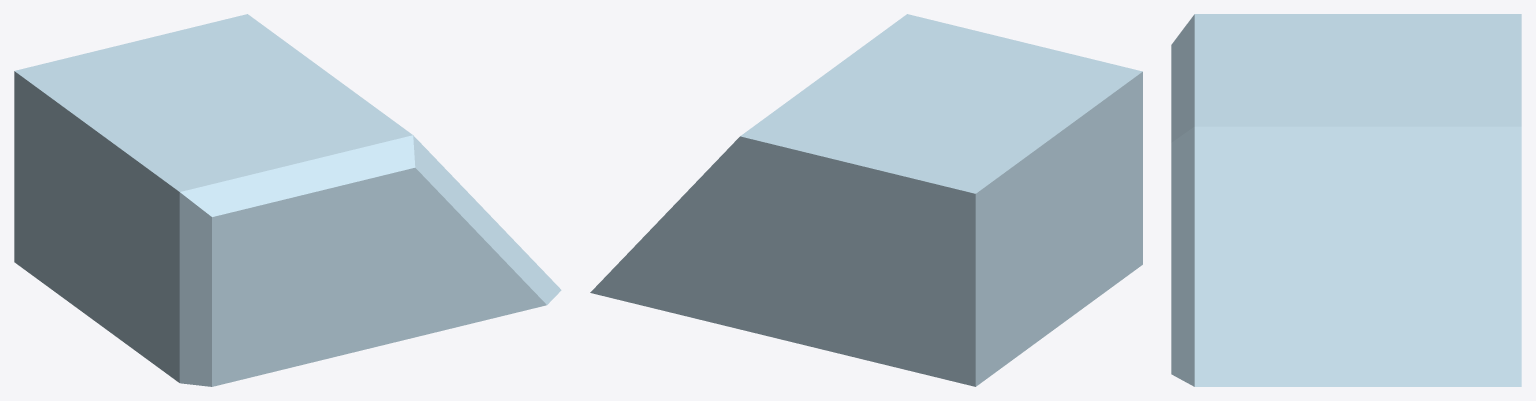
File: STAM - M7-1.gltf
3 views of the same model, side by side, from view 1: azimuth 30°, elevation 25°; view 2: azimuth 150°, elevation 25°; view 3: azimuth 270°, elevation 25° (orthographic). The views are drawn at different scales.
Visible parts, largest first — view 1: M7-1; view 2: M7-1; view 3: M7-1.
Boxes of the visible parts, x1,y1,x2,y2 form: M7-1: (14,14,561,386); M7-1: (590,14,1142,386); M7-1: (1171,14,1521,386).
Size of the model in its own units: 0.0186 by 0.00892 by 0.015.
